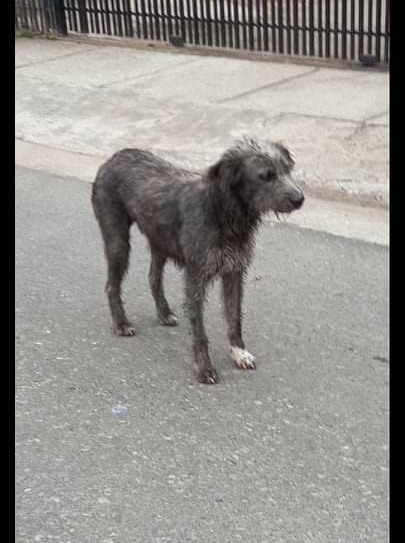dog: (79, 128, 314, 392)
